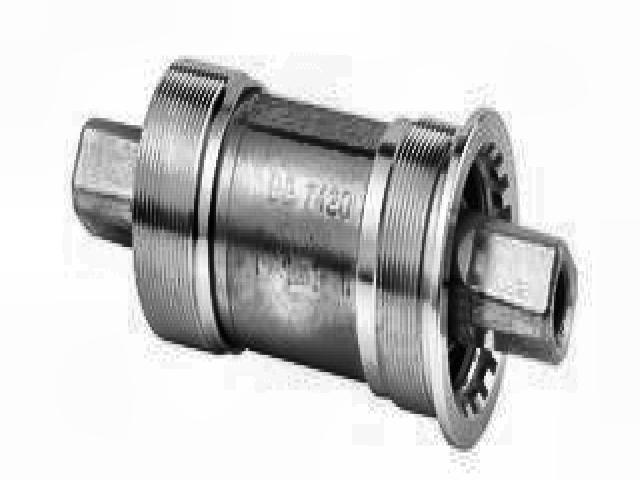bottom_bracket: (71, 54, 580, 452)
